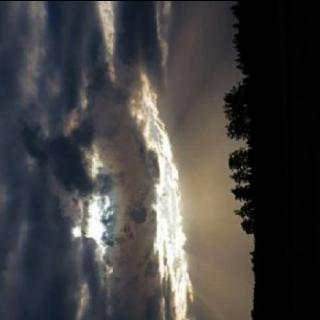Nimbostratus: (0, 0, 241, 320)
